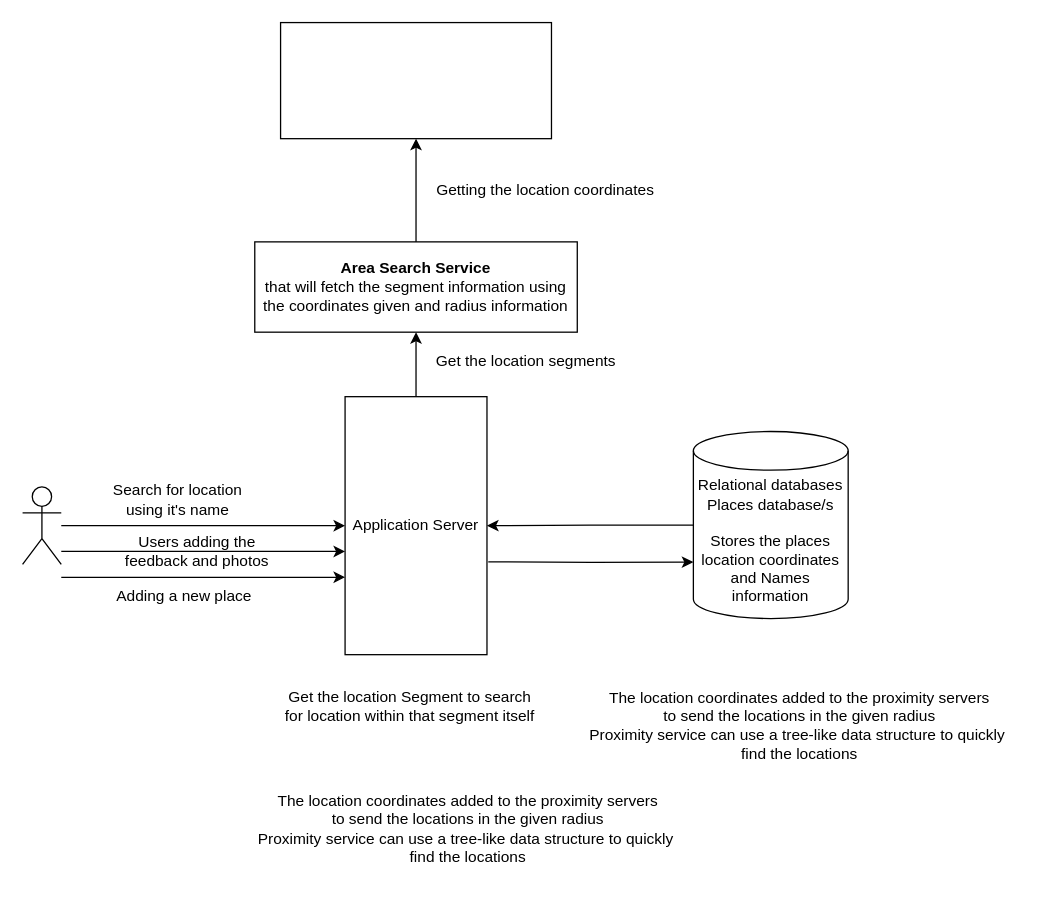
This 1047x897 diagram has some shape labels left out. The centre of each missing label's shape, as x and y in pixels:
"Actor" belongs at point (41, 525).
"Location Finder Service Google Server to find the location and it's cordinates" belongs at point (415, 80).
